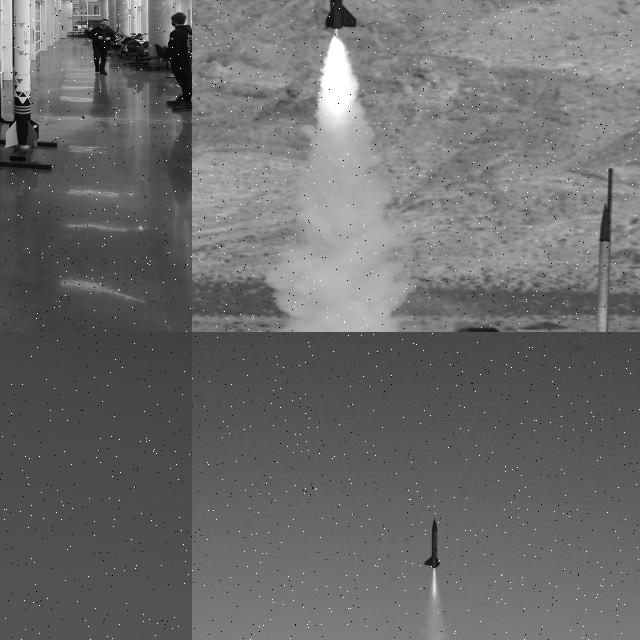Rocket: (5, 0, 39, 149), (586, 203, 622, 332), (323, 0, 358, 30), (424, 518, 442, 569)
